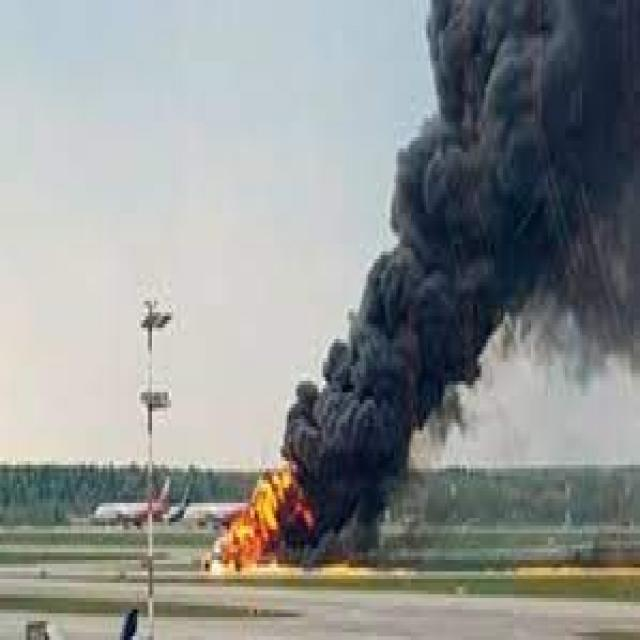fire: (188, 461, 310, 587)
smoke: (284, 4, 640, 541)
